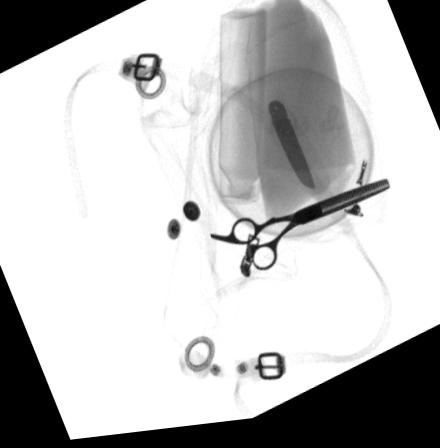Knife: (265, 107, 315, 198)
Scissors: (208, 188, 389, 277)
